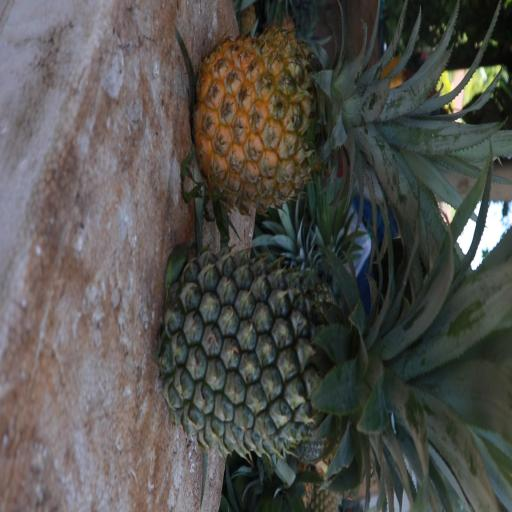Pineapple - v8 v1: (198, 34, 497, 212)
